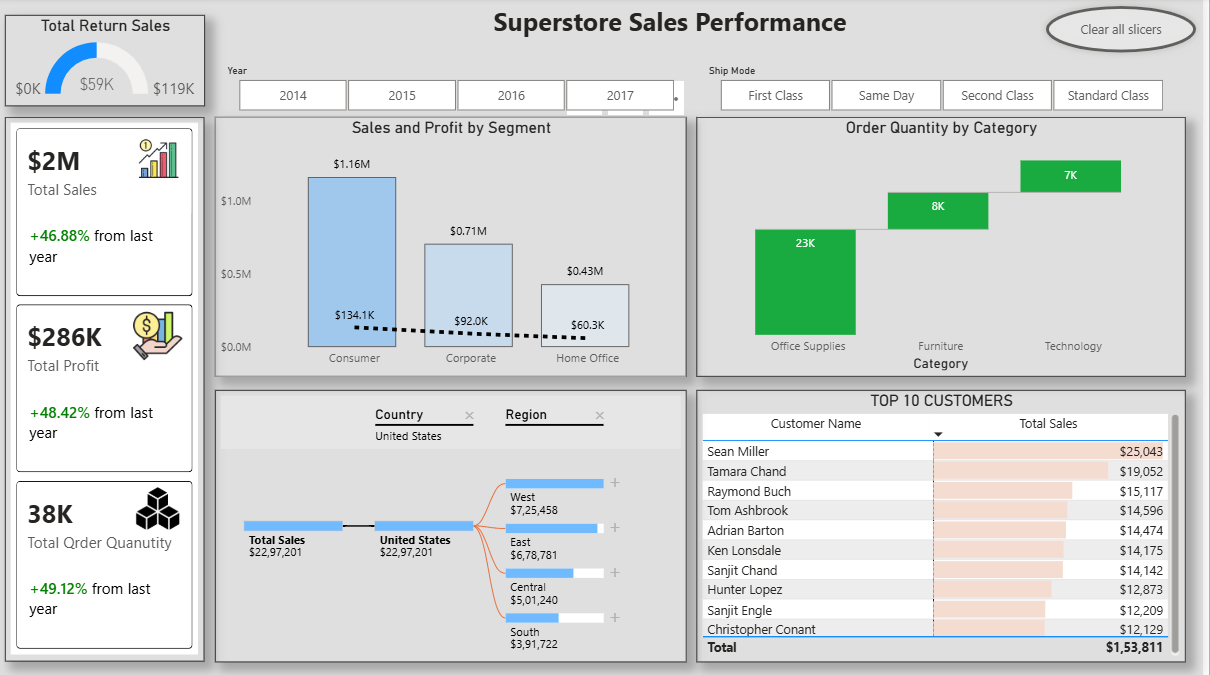

Layout of this report page (visuals, bound fields, positions):
{"tool":"powerbi","page":{"name":"Sales_Analysis","canvas":[1280,720],"ordinal":0},"visuals":[{"type":"lineClusteredColumnComboChart","title":"Sales and Profit by Segment","fields":{"Category":["Orders.Segment"],"Y":["Sum(Orders.Sales)"],"Y2":["Sum(Orders.Profit)"]},"box":[231.7,126.7,500,275],"z":0},{"type":"waterfallChart","title":"Order Quantity by Category","fields":{"Category":["Orders.Category"],"Y":["Sum(Orders.Quantity)"]},"box":[743.3,126.7,518.3,275],"z":2000},{"type":"cardVisual","fields":{"Data":["Orders.Total Sales","Orders.Total Profit","Orders.Total Qrder Quanutity"]},"box":[9.5,127.2,211.6,577.4],"z":3000},{"type":"tableEx","title":"TOP 10 CUSTOMERS","fields":{"Values":["Orders.Customer Name","Orders.Total Sales"]},"box":[743.3,416.7,518.3,288.3],"z":4000},{"type":"slicer","fields":{"Values":["Orders.Ship Mode"]},"box":[742.8,66.8,518.5,60.4],"z":5000},{"type":"slicer","fields":{"Values":["Date.Year"]},"box":[232.2,66.8,510.6,60.4],"z":6000},{"type":"textbox","box":[9.5,1.6,1251.8,65.2],"z":7000},{"type":"gauge","fields":{"Y":["Returns (2).Total Return Sales"]},"box":[10,18.3,211.7,96.7],"z":8000},{"type":"actionButton","box":[1105.5,1.6,175,65.2],"z":9000},{"type":"image","box":[136.8,144.7,71.6,55.7],"z":10000},{"type":"image","box":[135.2,332.4,73.2,54.1],"z":11000},{"type":"image","box":[135.2,515.4,73.2,54.1],"z":12000},{"type":"decompositionTreeVisual","fields":{"Analyze":["Orders.Total Sales"],"ExplainBy":["Orders.Country","Orders.Region","Orders.State"]},"box":[231.7,416.7,500,288.3],"z":13000}]}

Visuals, with their boxes in screenshot pixels (x1, y1, x2, y2), scaled from the page's 1280x720 canvas onto the 1210x675 screenshot:
"Sales and Profit by Segment" lineClusteredColumnComboChart: detection(219, 119, 692, 377)
"Order Quantity by Category" waterfallChart: detection(703, 119, 1193, 377)
cardVisual - Orders.Total Sales x Orders.Total Profit: detection(9, 119, 209, 661)
"TOP 10 CUSTOMERS" tableEx: detection(703, 391, 1193, 661)
slicer - Orders.Ship Mode: detection(702, 63, 1192, 119)
slicer - Date.Year: detection(220, 63, 702, 119)
textbox: detection(9, 2, 1192, 63)
gauge - Returns (2).Total Return Sales: detection(9, 17, 210, 108)
actionButton: detection(1045, 2, 1209, 63)
image: detection(129, 136, 197, 188)
image: detection(128, 312, 197, 362)
image: detection(128, 483, 197, 534)
decompositionTreeVisual - Orders.Total Sales x Orders.Country: detection(219, 391, 692, 661)
